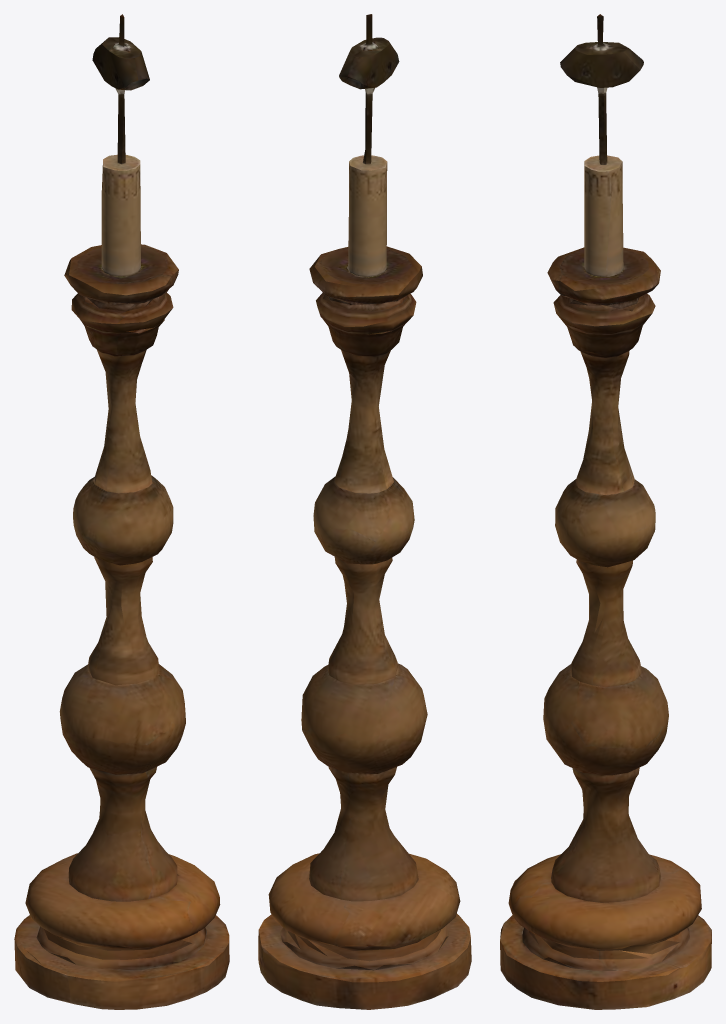
File: lamp-standard.glb
The picture shows the model from 3 angles, left to right: view 1: azimuth 30°, elevation 25°; view 2: azimuth 150°, elevation 25°; view 3: azimuth 270°, elevation 25°; orthographic projection.
Visible parts, largest first — view 1: lamp-standard; view 2: lamp-standard; view 3: lamp-standard.
Part boxes in pixels (left/top/right/bottom): lamp-standard: left=14, top=14, right=229, bottom=1009; lamp-standard: left=258, top=14, right=471, bottom=1009; lamp-standard: left=500, top=14, right=711, bottom=1009.
Bounding box in the file's own units: 0.3242 × 1.59 × 0.321.
Materials: 2 (2 with a texture image).
